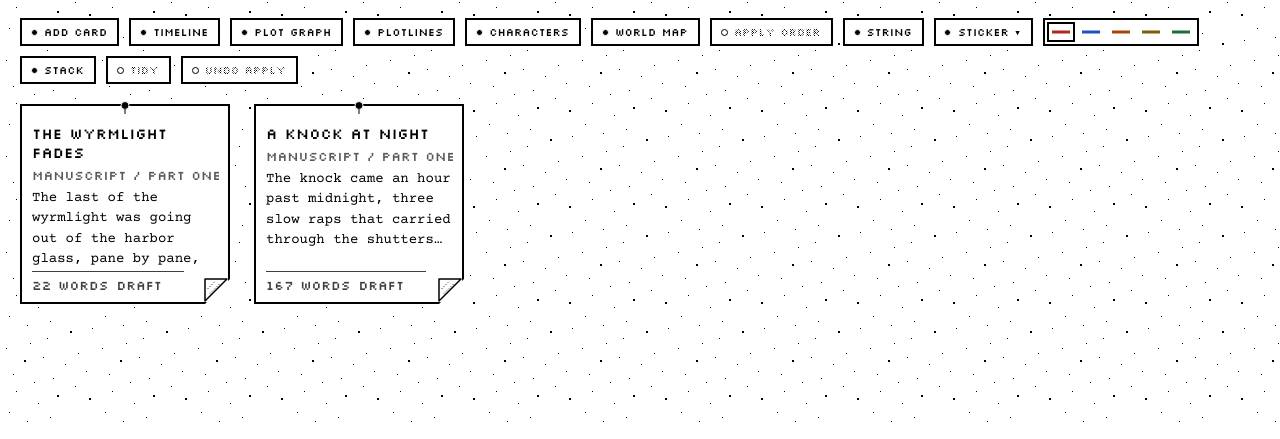
Test: Add Card from anywhere › closes on Esc even with the string tool up, which keeps the tool up
Expected: the element that starts with "The Wyrmlight Fades" is shown, [20,104,230,304]
Click the button with class "board-tool" showing "String": (883, 32) [842,18,924,46]
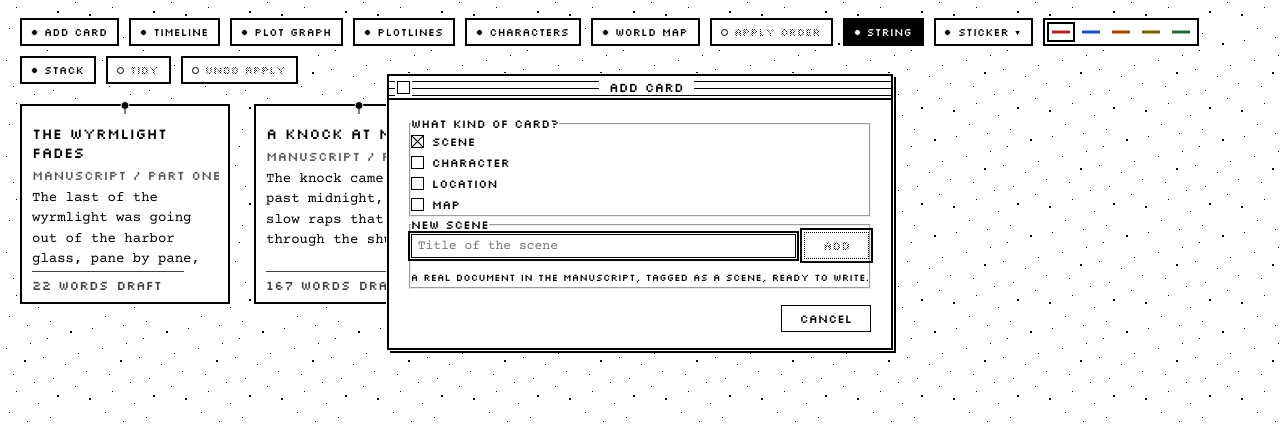
Expected: the text "What kind of card?" is shown, [411,116,559,131]
Press Escape in the field with placeholder "Title of the scene", box [411,234,796,258]
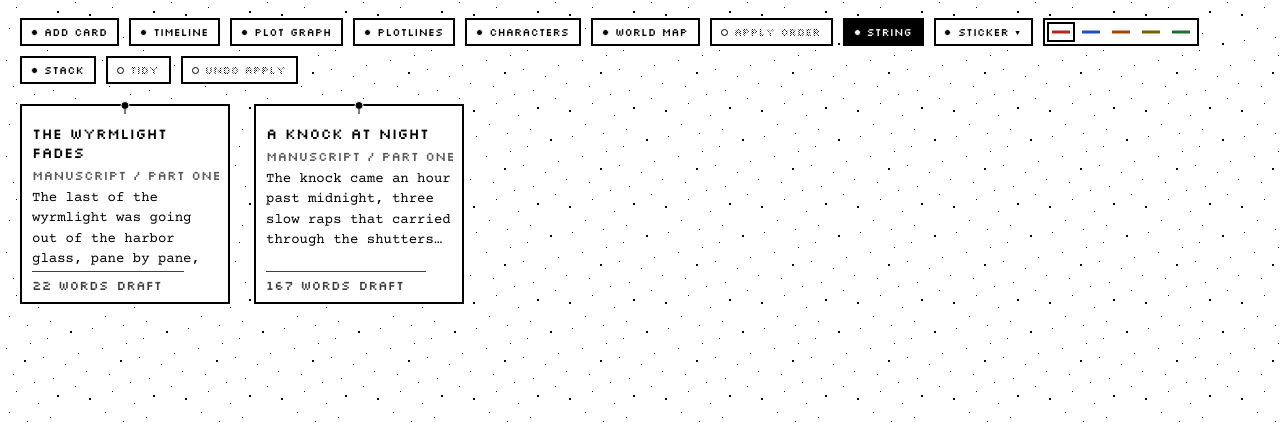
Expected: the text "What kind of card?" is gone
